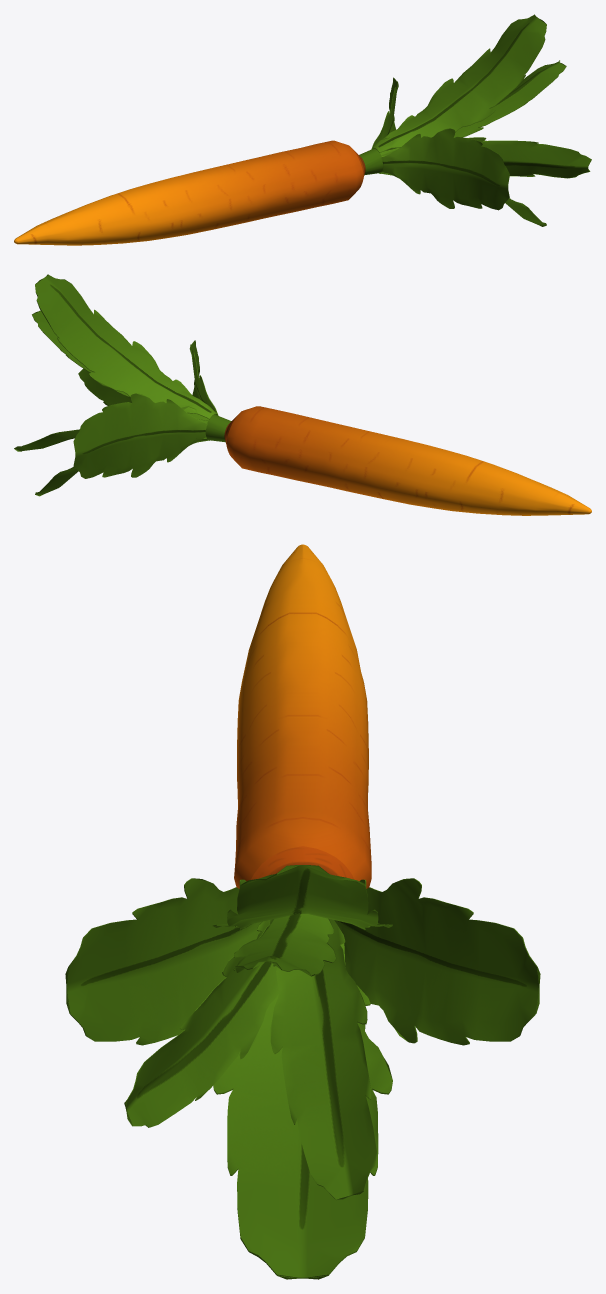
Rendered from carrot.obj.
The picture shows the model from 3 angles, top to bottom: view 1: azimuth 30°, elevation 25°; view 2: azimuth 150°, elevation 25°; view 3: azimuth 270°, elevation 25°; orthographic projection. The views are drawn at different scales.
Visible parts, largest first — view 1: obj1.001, obj7, obj6, obj10, obj9, obj4, obj3, obj5; view 2: obj1.001, obj7, obj4, obj10, obj9, obj6, obj8, obj3, obj5; view 3: obj1.001, obj4, obj5, obj6, obj8, obj10, obj7, obj9, obj2.
Part boxes in pixels (left/top/right/bottom): obj1.001: left=14, top=140, right=363, bottom=245; obj7: left=372, top=14, right=546, bottom=152; obj6: left=381, top=128, right=509, bottom=210; obj10: left=381, top=137, right=591, bottom=178; obj9: left=380, top=60, right=566, bottom=158; obj4: left=371, top=77, right=398, bottom=149; obj3: left=359, top=148, right=383, bottom=175; obj5: left=379, top=172, right=546, bottom=226; obj1.001: left=226, top=406, right=591, bottom=515; obj7: left=35, top=274, right=216, bottom=419; obj4: left=73, top=393, right=207, bottom=478; obj10: left=78, top=368, right=215, bottom=414; obj9: left=32, top=310, right=208, bottom=423; obj6: left=189, top=340, right=218, bottom=415; obj8: left=14, top=429, right=79, bottom=451; obj3: left=205, top=414, right=231, bottom=442; obj5: left=35, top=437, right=209, bottom=496; obj1.001: left=234, top=544, right=371, bottom=888; obj4: left=334, top=878, right=540, bottom=1045; obj5: left=213, top=985, right=392, bottom=1279; obj6: left=65, top=878, right=261, bottom=1045; obj8: left=270, top=919, right=376, bottom=1200; obj10: left=124, top=919, right=278, bottom=1127; obj7: left=212, top=865, right=392, bottom=929; obj9: left=233, top=914, right=336, bottom=976; obj2: left=251, top=846, right=353, bottom=879.
Bounding box in the file's own units: 5.08 × 1.86 × 1.93.
3 materials, 3 textured.
